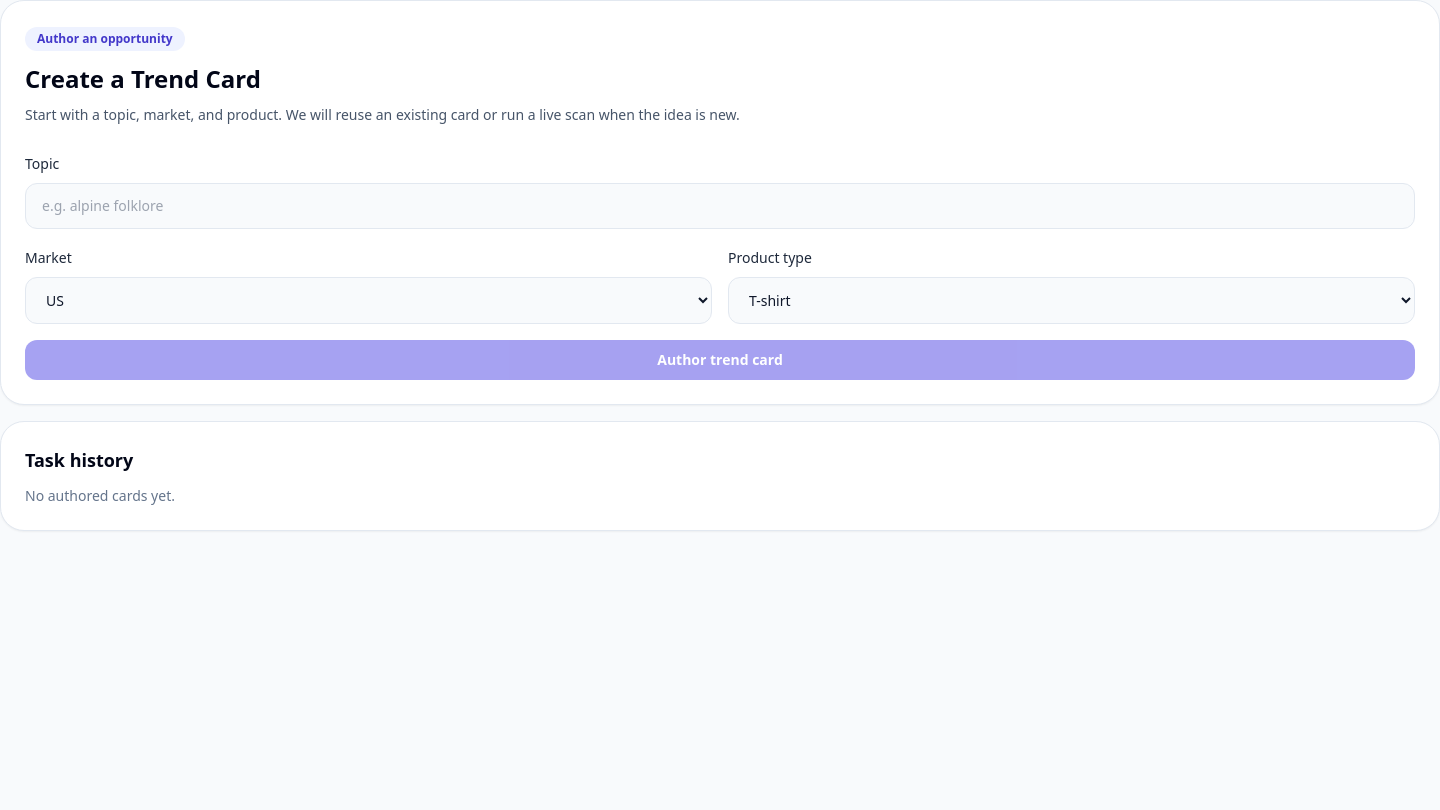
Scenario: SeedAuthoringPanel › fails a task when the stream ends without producing a Trend Card
The width and height of the screenshot is (1440, 810).
In the field labelled "Topic": (720, 206) [25,183,1415,229], type "alpine folklore"
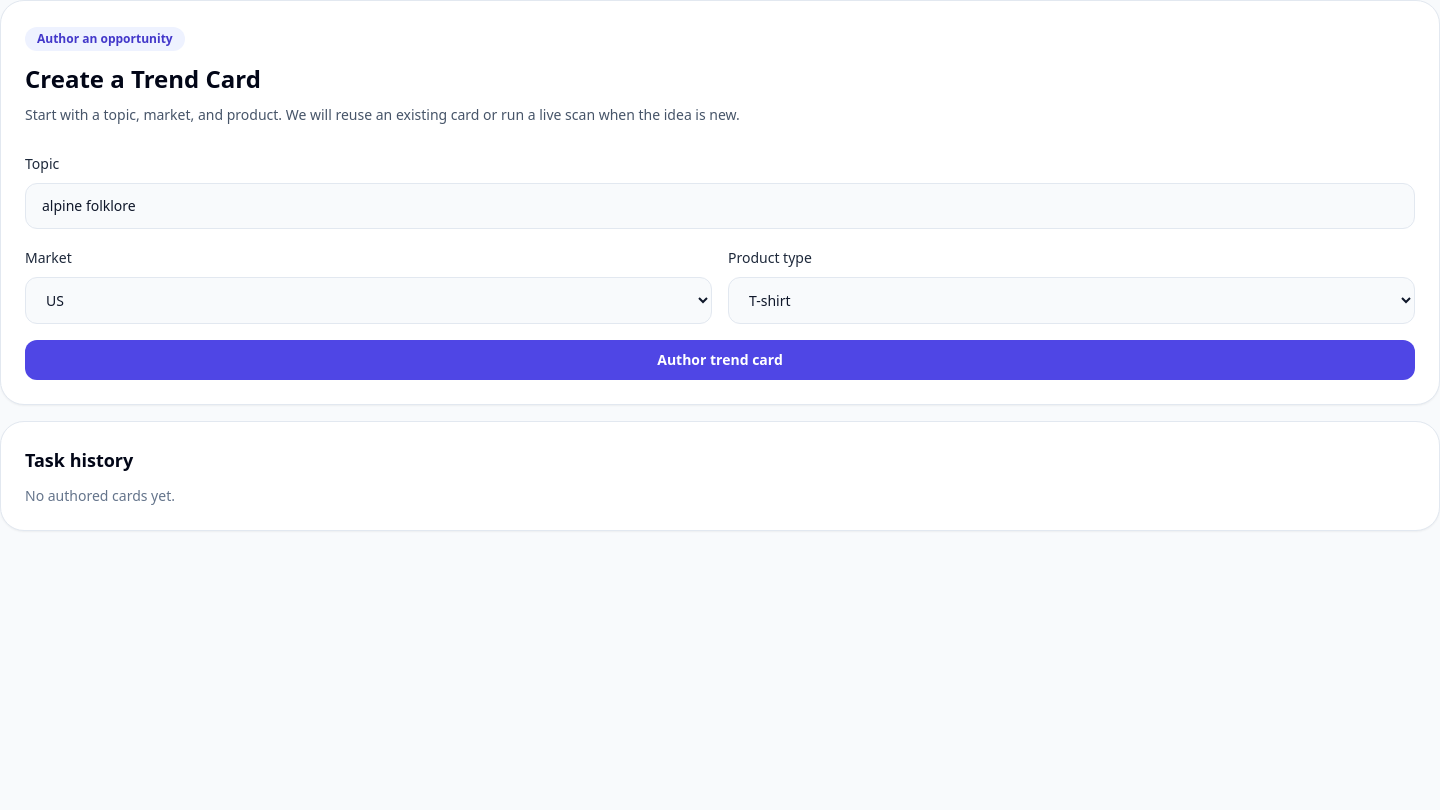
Click the button "Author trend card": (720, 360) [25,340,1415,380]
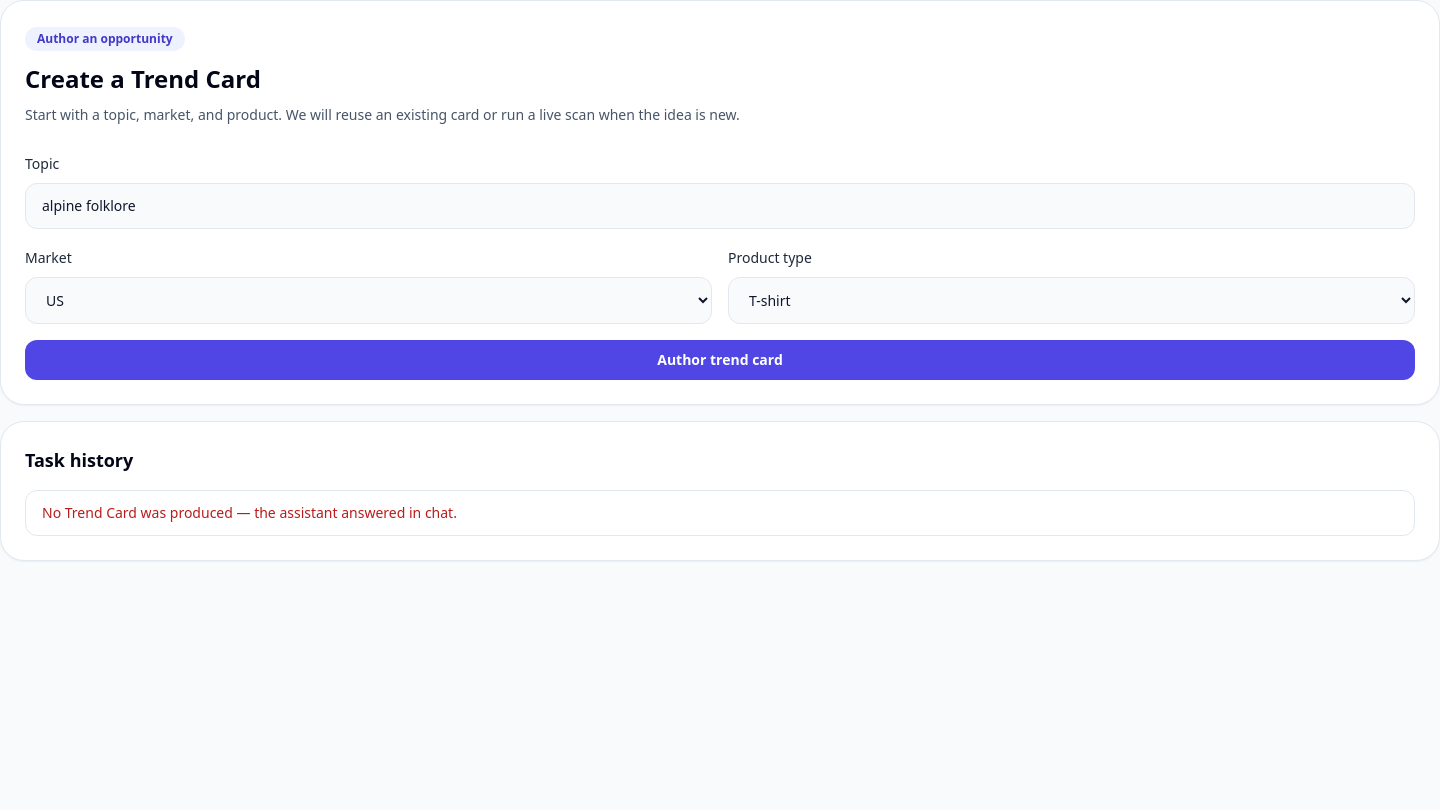
Expected: the message reads "No Trend Card was produced — the assistant answered in chat.", [42,503,457,522]
